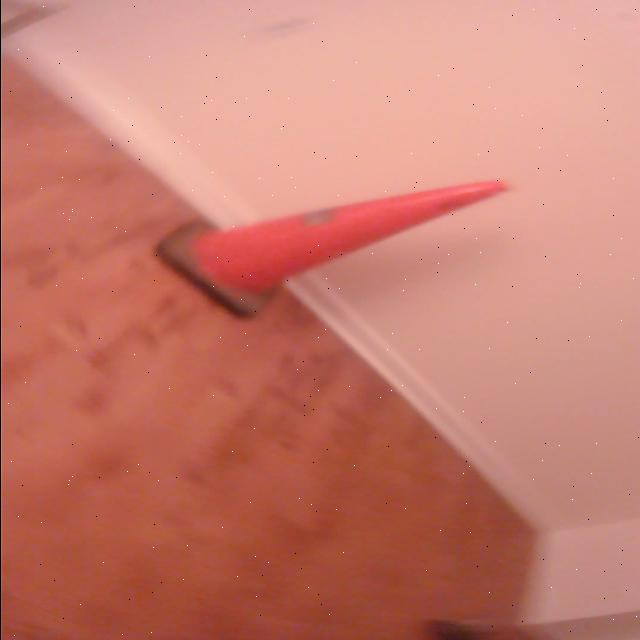traffic cone: (149, 178, 517, 322)
